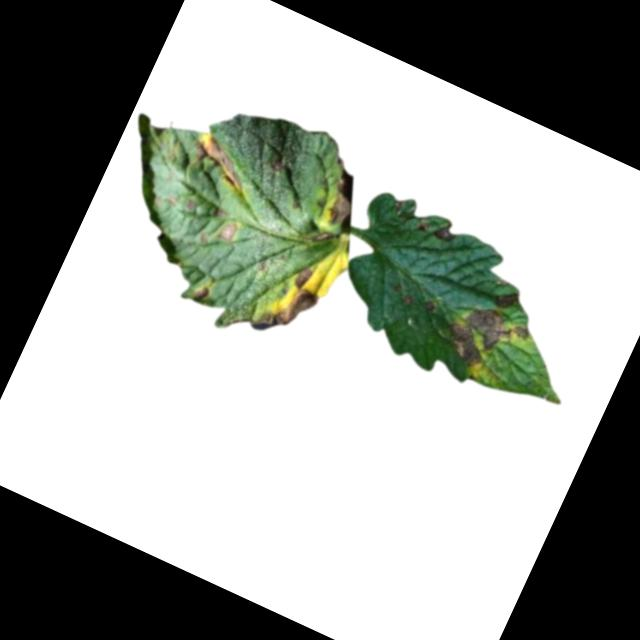Early_blight: (437, 295, 534, 386), (247, 253, 331, 349), (181, 125, 263, 195), (320, 167, 373, 237), (215, 216, 240, 246), (430, 220, 458, 245), (187, 280, 210, 305), (423, 297, 439, 312), (405, 291, 419, 306)
